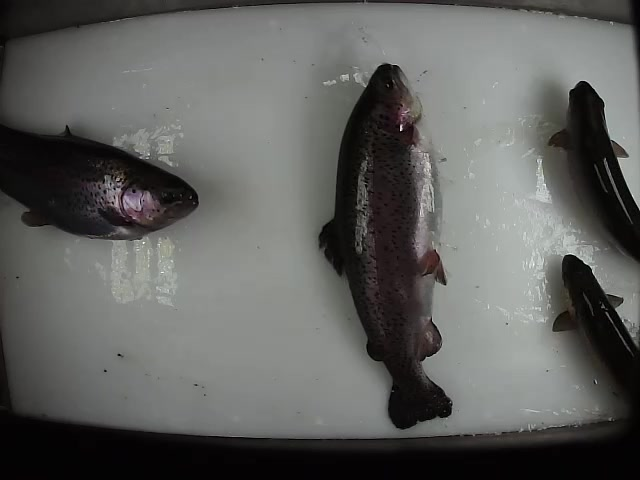fish: (315, 61, 455, 430), (1, 123, 200, 243), (547, 80, 640, 260), (551, 253, 640, 405)
